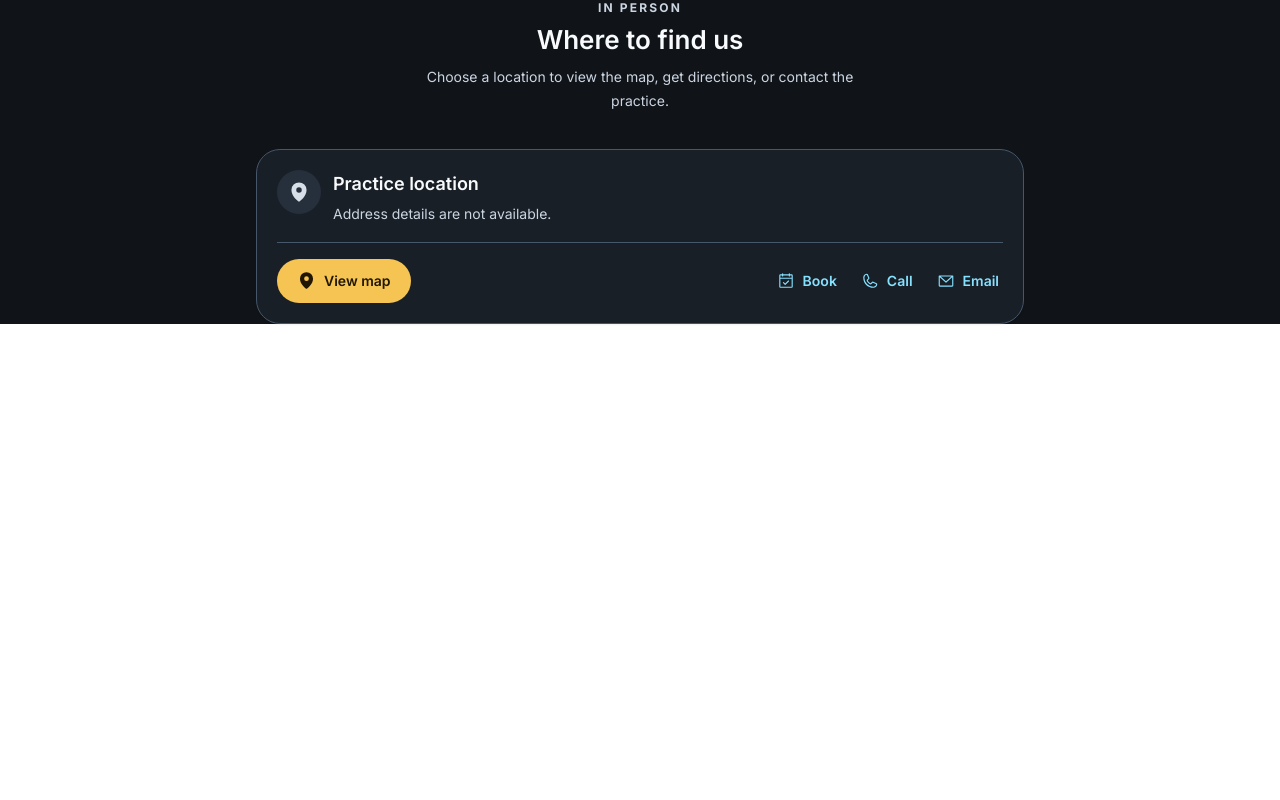
Test: WorkLocation › does not offer directions without a real destination
Click the button "View map" at point(344, 280), box 277,258 -> 411,302
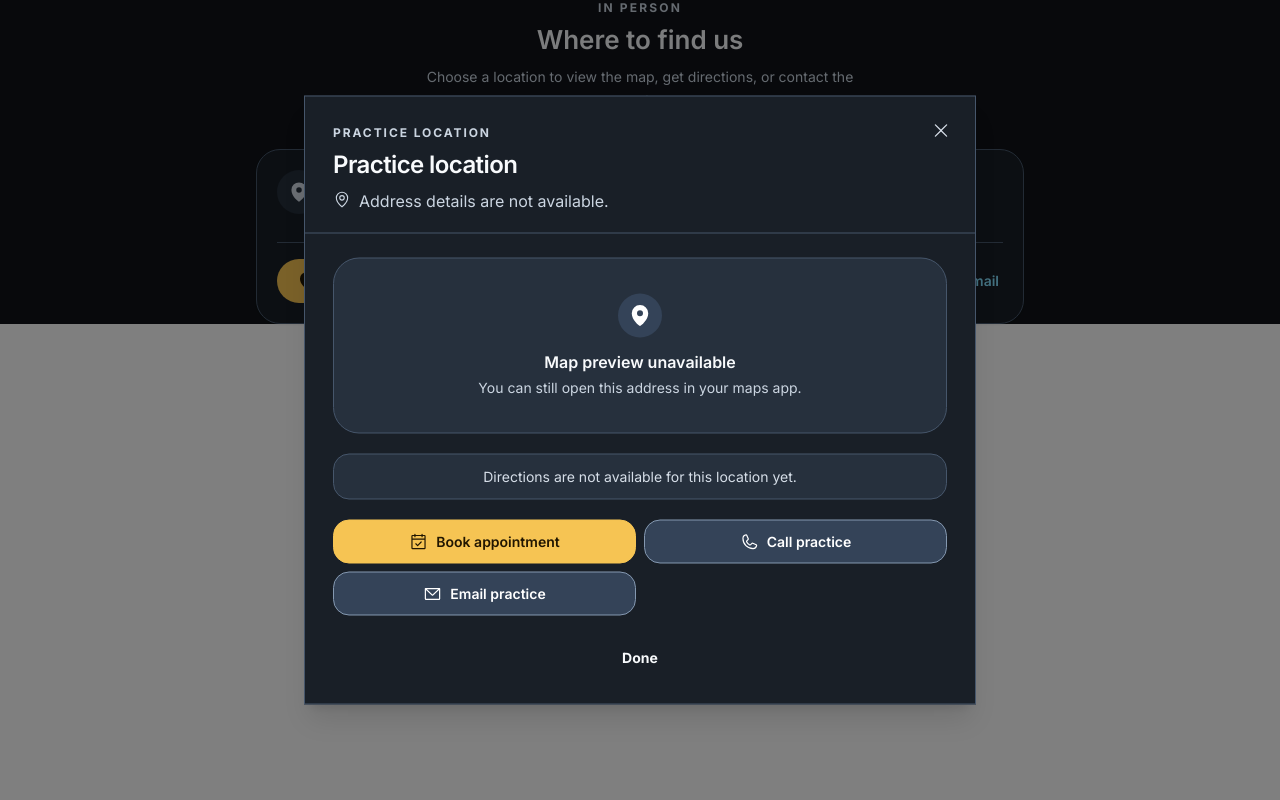
Expected: the text "Directions are not available for this location yet." is shown, 333,454 -> 947,500
